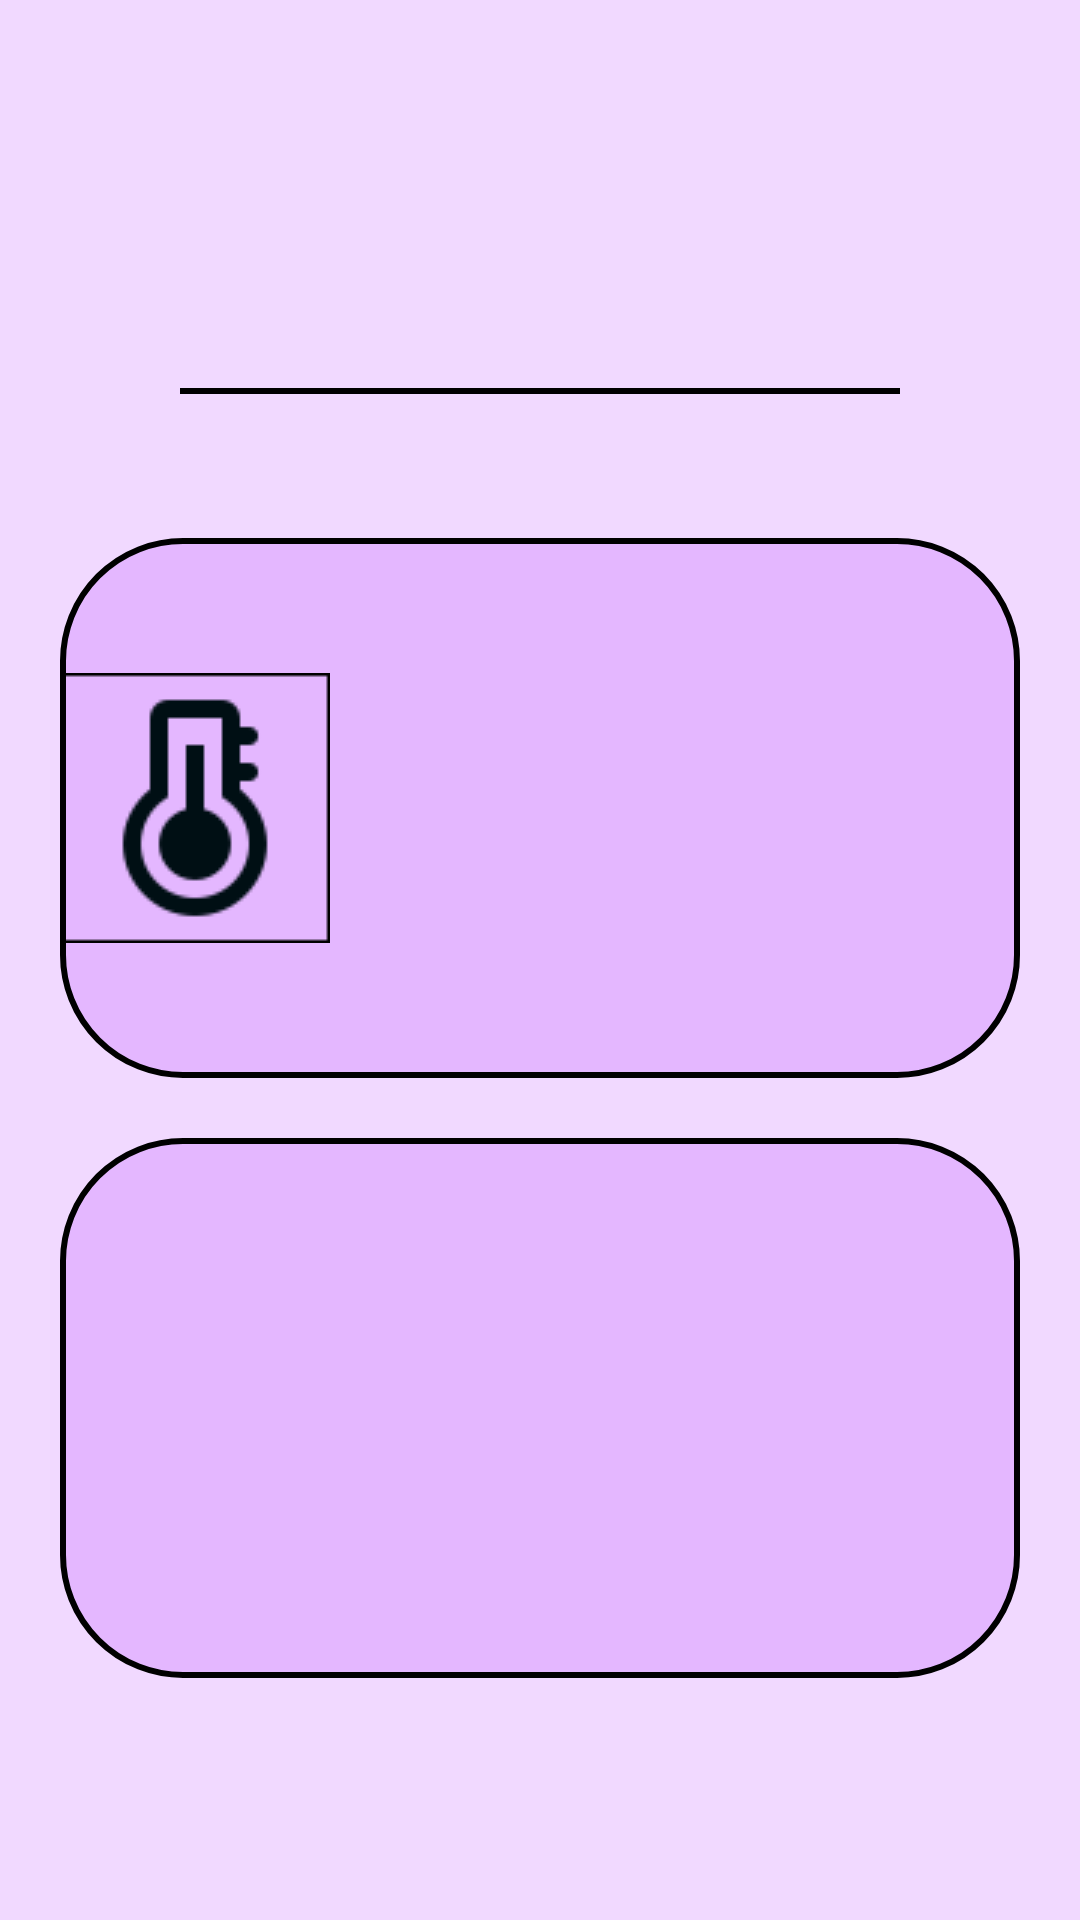

Icons on this 1080x1920 Android screen, each with the point to tap as [x,y]:
temperature: [195,808]
